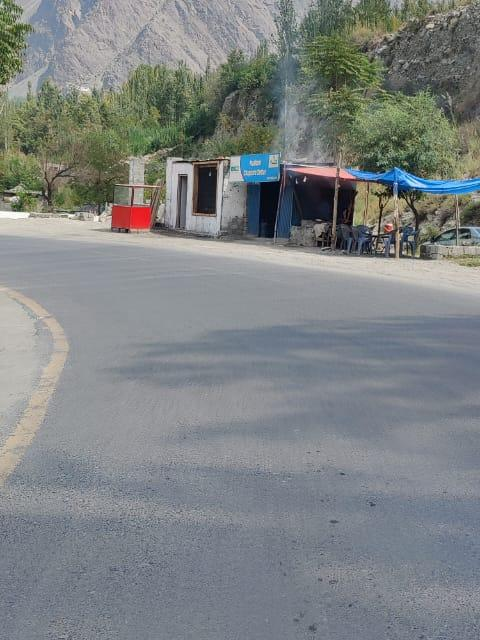left_turn: (0, 143, 326, 370)
